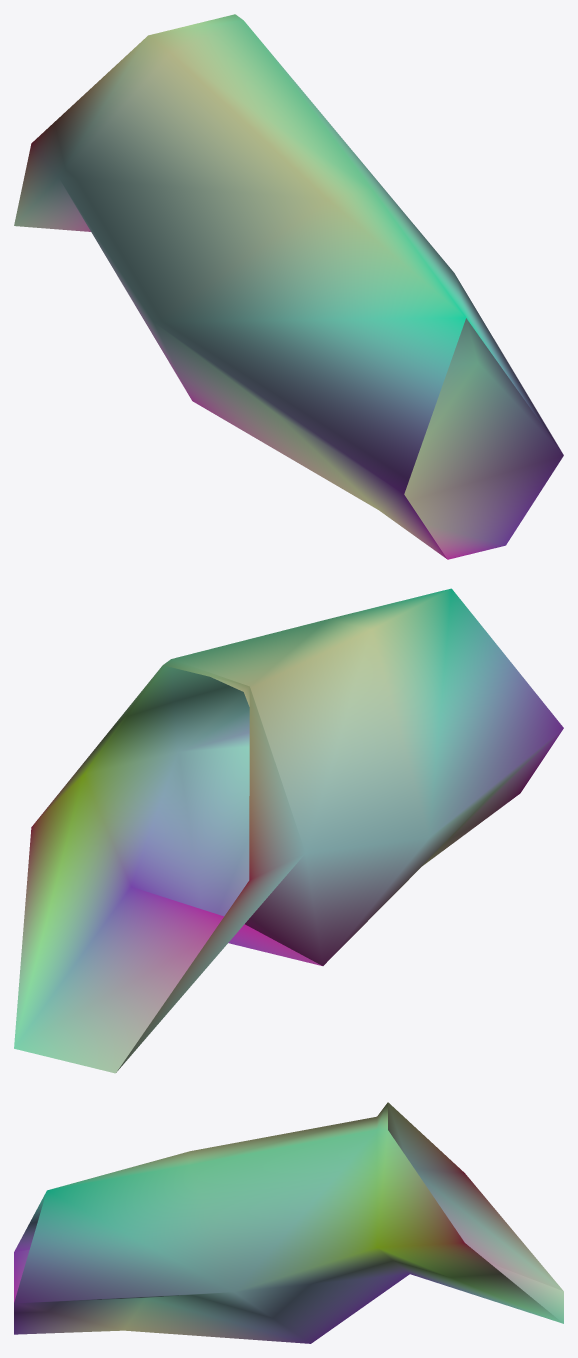
3 renders of one model, top to bottom at view 1: azimuth 30°, elevation 25°; view 2: azimuth 150°, elevation 25°; view 3: azimuth 270°, elevation 25°, orthographic. The views are drawn at different scales.
Parts seen in each view (by area): view 1: part; view 2: part; view 3: part.
Boxes of the visible parts, x1=… form: part: x1=14, y1=14, x2=563, y2=559; part: x1=14, y1=588, x2=563, y2=1073; part: x1=14, y1=1102, x2=563, y2=1343.
Bounding box in the file's own units: 19 × 22 × 50.
